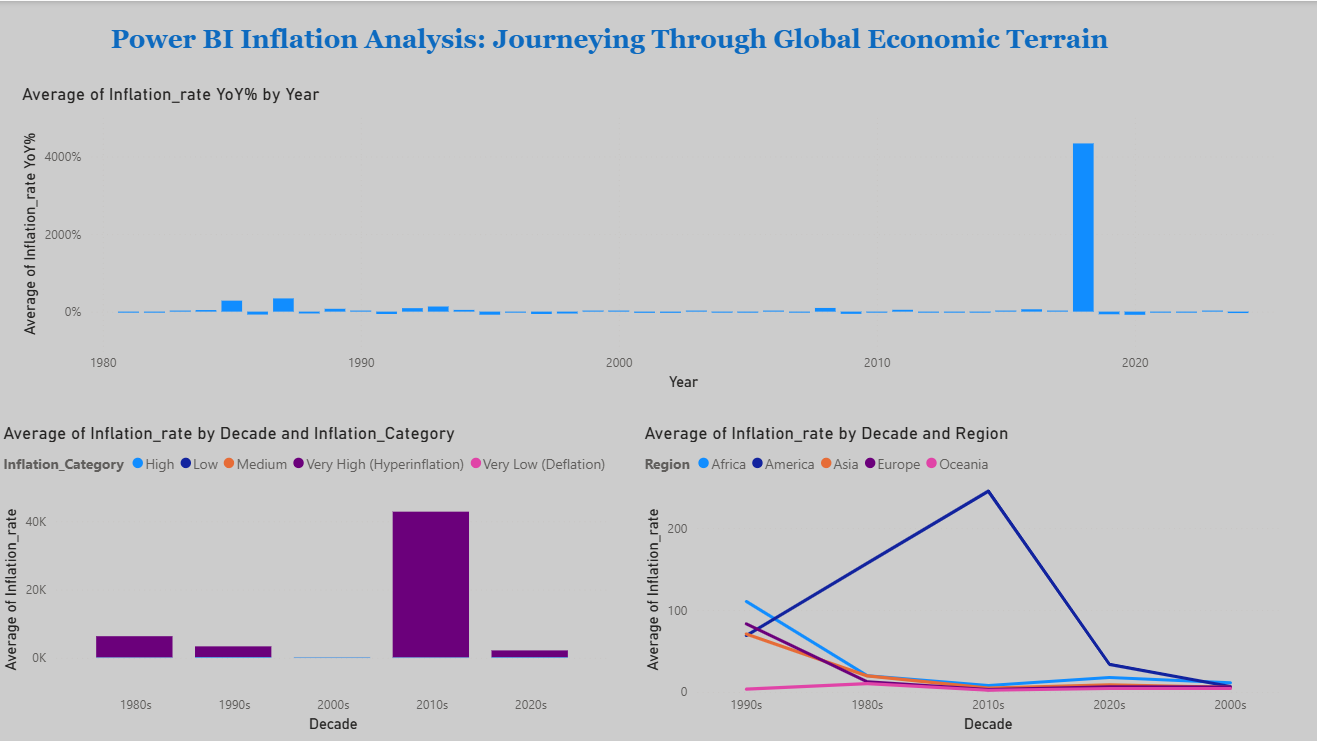

This screenshot's page, from the dashboard's own definition file:
{"tool":"powerbi","page":{"name":"Inflation by Time","canvas":[1280,720],"ordinal":3},"visuals":[{"type":"columnChart","fields":{"Category":["Dim_Year.Decade"],"Y":["Avg(Fact_inflation_data.Inflation_rate)"],"Series":["Fact_inflation_data.Inflation_Category"]},"box":[0,406.6,596,304],"z":0},{"type":"clusteredColumnChart","fields":{"Y":["Fact_inflation_data.Average of Inflation_rate YoY%"],"Category":["Fact_inflation_data.YearStartDate.Variation.Date Hierarchy.Year"]},"box":[18.1,79.6,1223.3,301.6],"z":1000},{"type":"lineChart","fields":{"Category":["Dim_Year.Decade"],"Y":["Avg(Fact_inflation_data.Inflation_rate)"],"Series":["Dim_Region.Region"]},"box":[618.9,406.6,622.5,304],"z":2000},{"type":"textbox","box":[103.9,17.1,994.2,72.1],"z":3000}]}

Visuals, with their boxes in screenshot pixels (x1, y1, x2, y2), scaled from the page's 1280x720 canvas onto the 1317x741 screenshot:
columnChart - Dim_Year.Decade x Avg(Fact_inflation_data.Inflation_rate): (x1=0, y1=418, x2=613, y2=731)
clusteredColumnChart - Fact_inflation_data.Average of Inflation_rate YoY% x Fact_inflation_data.YearStartDate.Variation.Date Hierarchy.Year: (x1=19, y1=82, x2=1277, y2=392)
lineChart - Dim_Year.Decade x Avg(Fact_inflation_data.Inflation_rate): (x1=637, y1=418, x2=1277, y2=731)
textbox: (x1=107, y1=18, x2=1130, y2=92)
